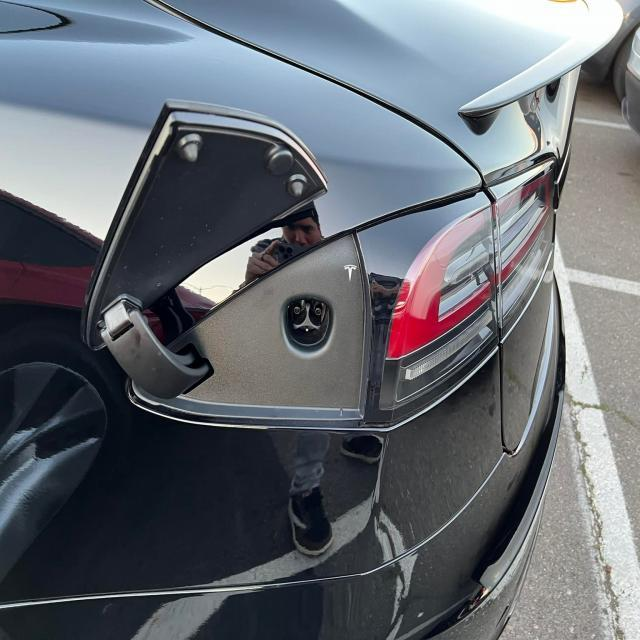Tesla Model-S-: (247, 272, 372, 381)
